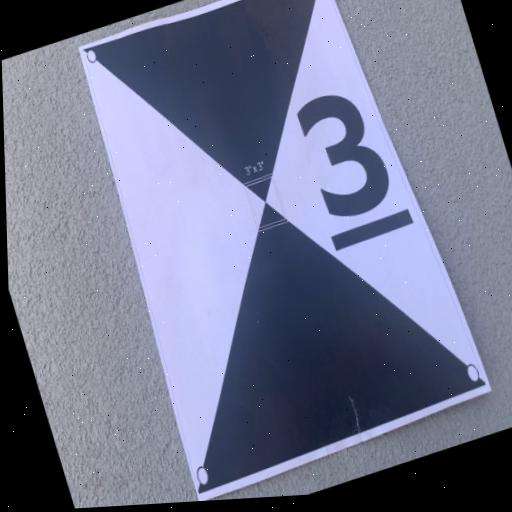target3: (78, 0, 495, 501)
